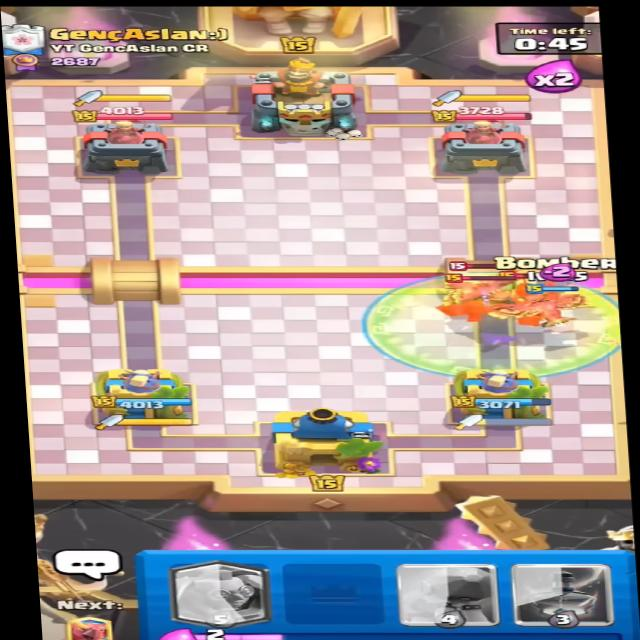Pheonix: (430, 262, 549, 306)
